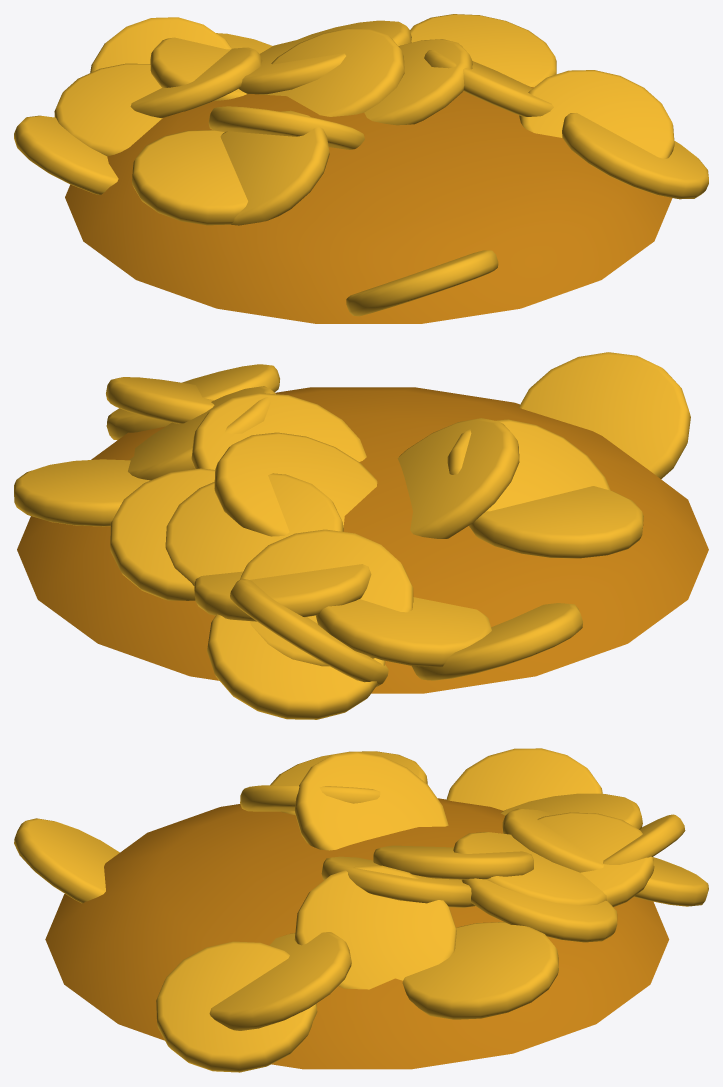
File: coinpile_s.glb
3 views of the same model, one above another, from view 1: azimuth 30°, elevation 25°; view 2: azimuth 150°, elevation 25°; view 3: azimuth 270°, elevation 25° (orthographic). The views are drawn at different scales.
Parts seen in each view (by area): view 1: coinpile_s; view 2: coinpile_s; view 3: coinpile_s.
Boxes of the visible parts, bbox=[...] form: coinpile_s: bbox=[14, 14, 708, 323]; coinpile_s: bbox=[14, 352, 708, 719]; coinpile_s: bbox=[14, 748, 708, 1072].
Bounding box in the file's own units: 0.7004 × 0.1687 × 0.7678.
